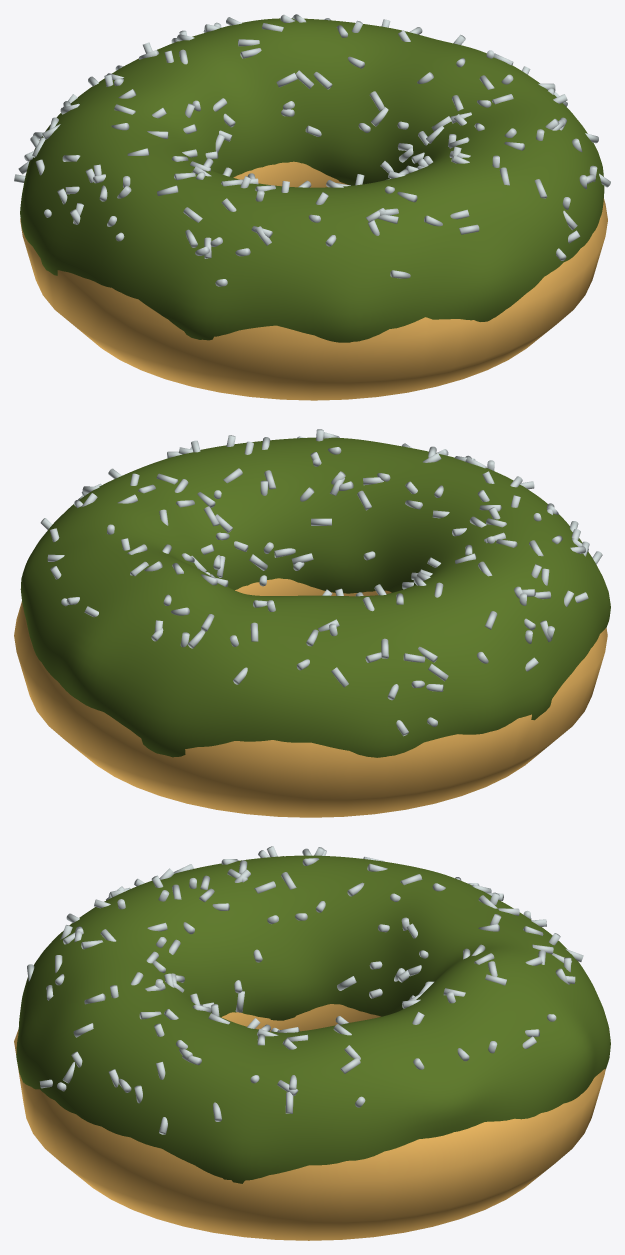
File: donut.glb
3 renders of one model, top to bottom at view 1: azimuth 30°, elevation 25°; view 2: azimuth 150°, elevation 25°; view 3: azimuth 270°, elevation 25°, orthographic.
Visible parts, largest first — view 1: トーラス.001, トーラス; view 2: トーラス.001, トーラス; view 3: トーラス.001, トーラス.
Boxes of the visible parts, x1,y1,x2,y2 form: トーラス.001: (20, 18, 604, 342); トーラス: (20, 161, 607, 400); トーラス.001: (20, 437, 610, 757); トーラス: (14, 578, 607, 817); トーラス.001: (16, 855, 610, 1183); トーラス: (14, 1004, 605, 1240).
Size of the model in its own units: 2.97 by 1.2 by 3.
